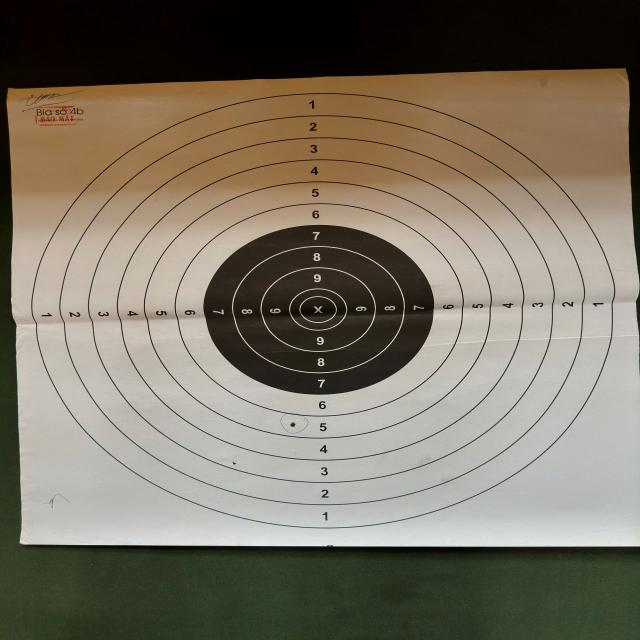bullet: (288, 420, 296, 428), (232, 460, 236, 468)
target: (8, 72, 631, 548)
